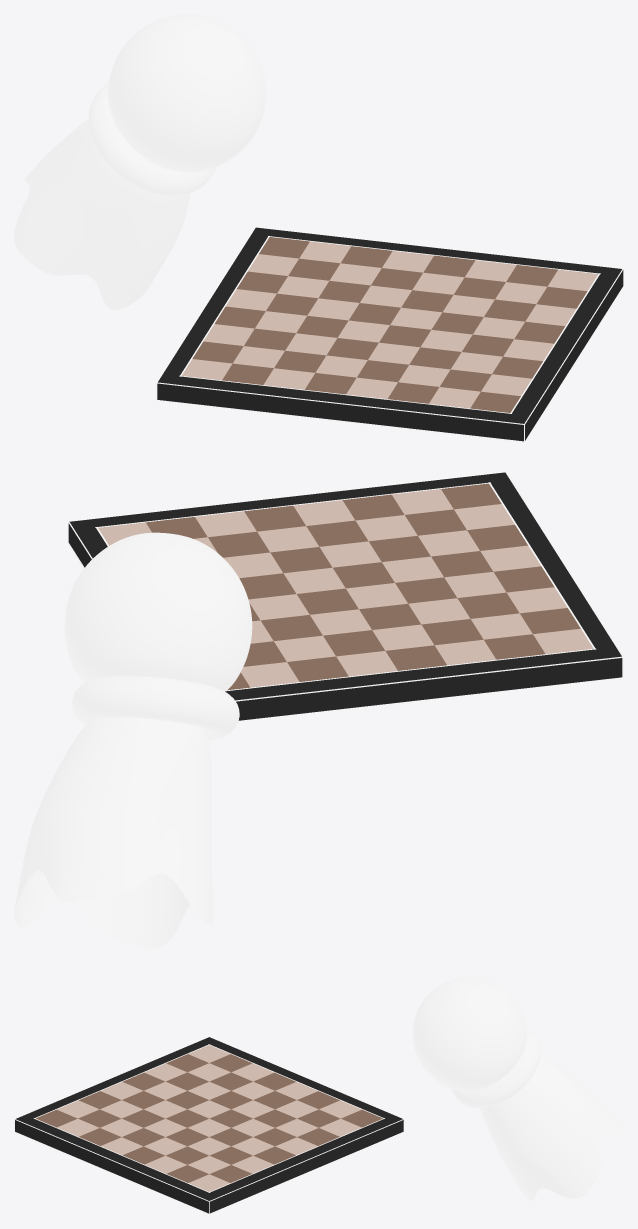
Rendered from ghost.glb.
3 views of the same model, one above another, from view 1: azimuth 30°, elevation 25°; view 2: azimuth 150°, elevation 25°; view 3: azimuth 270°, elevation 25° (orthographic). The views are drawn at different scales.
Parts seen in each view (by area): view 1: Board_Tiles, Ghost_Tail, Board_Slab, Ghost_Collar, Board_Wire, Board_Inner; view 2: Ghost_Tail, Board_Tiles, Board_Slab, Ghost_Collar, Board_Wire, Board_Inner; view 3: Board_Tiles, Ghost_Tail, Board_Slab, Ghost_Collar, Board_Wire, Board_Inner.
Part boxes in pixels (left/top/right/bottom): Board_Tiles: left=181, top=237, right=598, bottom=412; Ghost_Tail: left=14, top=14, right=266, bottom=309; Board_Slab: left=157, top=227, right=623, bottom=441; Ghost_Collar: left=88, top=83, right=215, bottom=196; Board_Wire: left=156, top=226, right=623, bottom=442; Board_Inner: left=179, top=236, right=600, bottom=413; Ghost_Tail: left=14, top=532, right=252, bottom=948; Board_Tiles: left=98, top=483, right=593, bottom=690; Board_Slab: left=68, top=472, right=622, bottom=720; Ghost_Collar: left=72, top=676, right=239, bottom=740; Board_Wire: left=67, top=471, right=623, bottom=722; Board_Inner: left=95, top=482, right=596, bottom=691; Board_Tiles: left=35, top=1045, right=382, bottom=1191; Ghost_Tail: left=412, top=977, right=623, bottom=1200; Board_Slab: left=15, top=1037, right=403, bottom=1213; Ghost_Collar: left=451, top=1028, right=541, bottom=1108; Board_Wire: left=14, top=1036, right=404, bottom=1214; Board_Inner: left=33, top=1044, right=384, bottom=1192.
Size of the model in its own units: 9.46 by 5.95 by 14.77.
